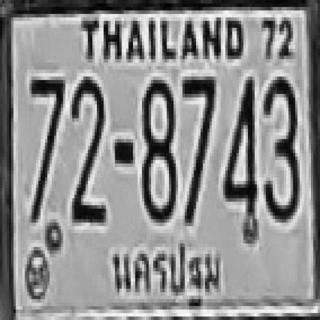N02: (69, 75, 105, 221)
N03: (262, 75, 298, 217)
N04: (222, 75, 256, 221)
N07: (180, 73, 214, 222), (29, 75, 63, 221), (180, 71, 214, 176), (29, 75, 63, 176)
N08: (140, 76, 176, 219)
P28: (105, 236, 228, 313)
